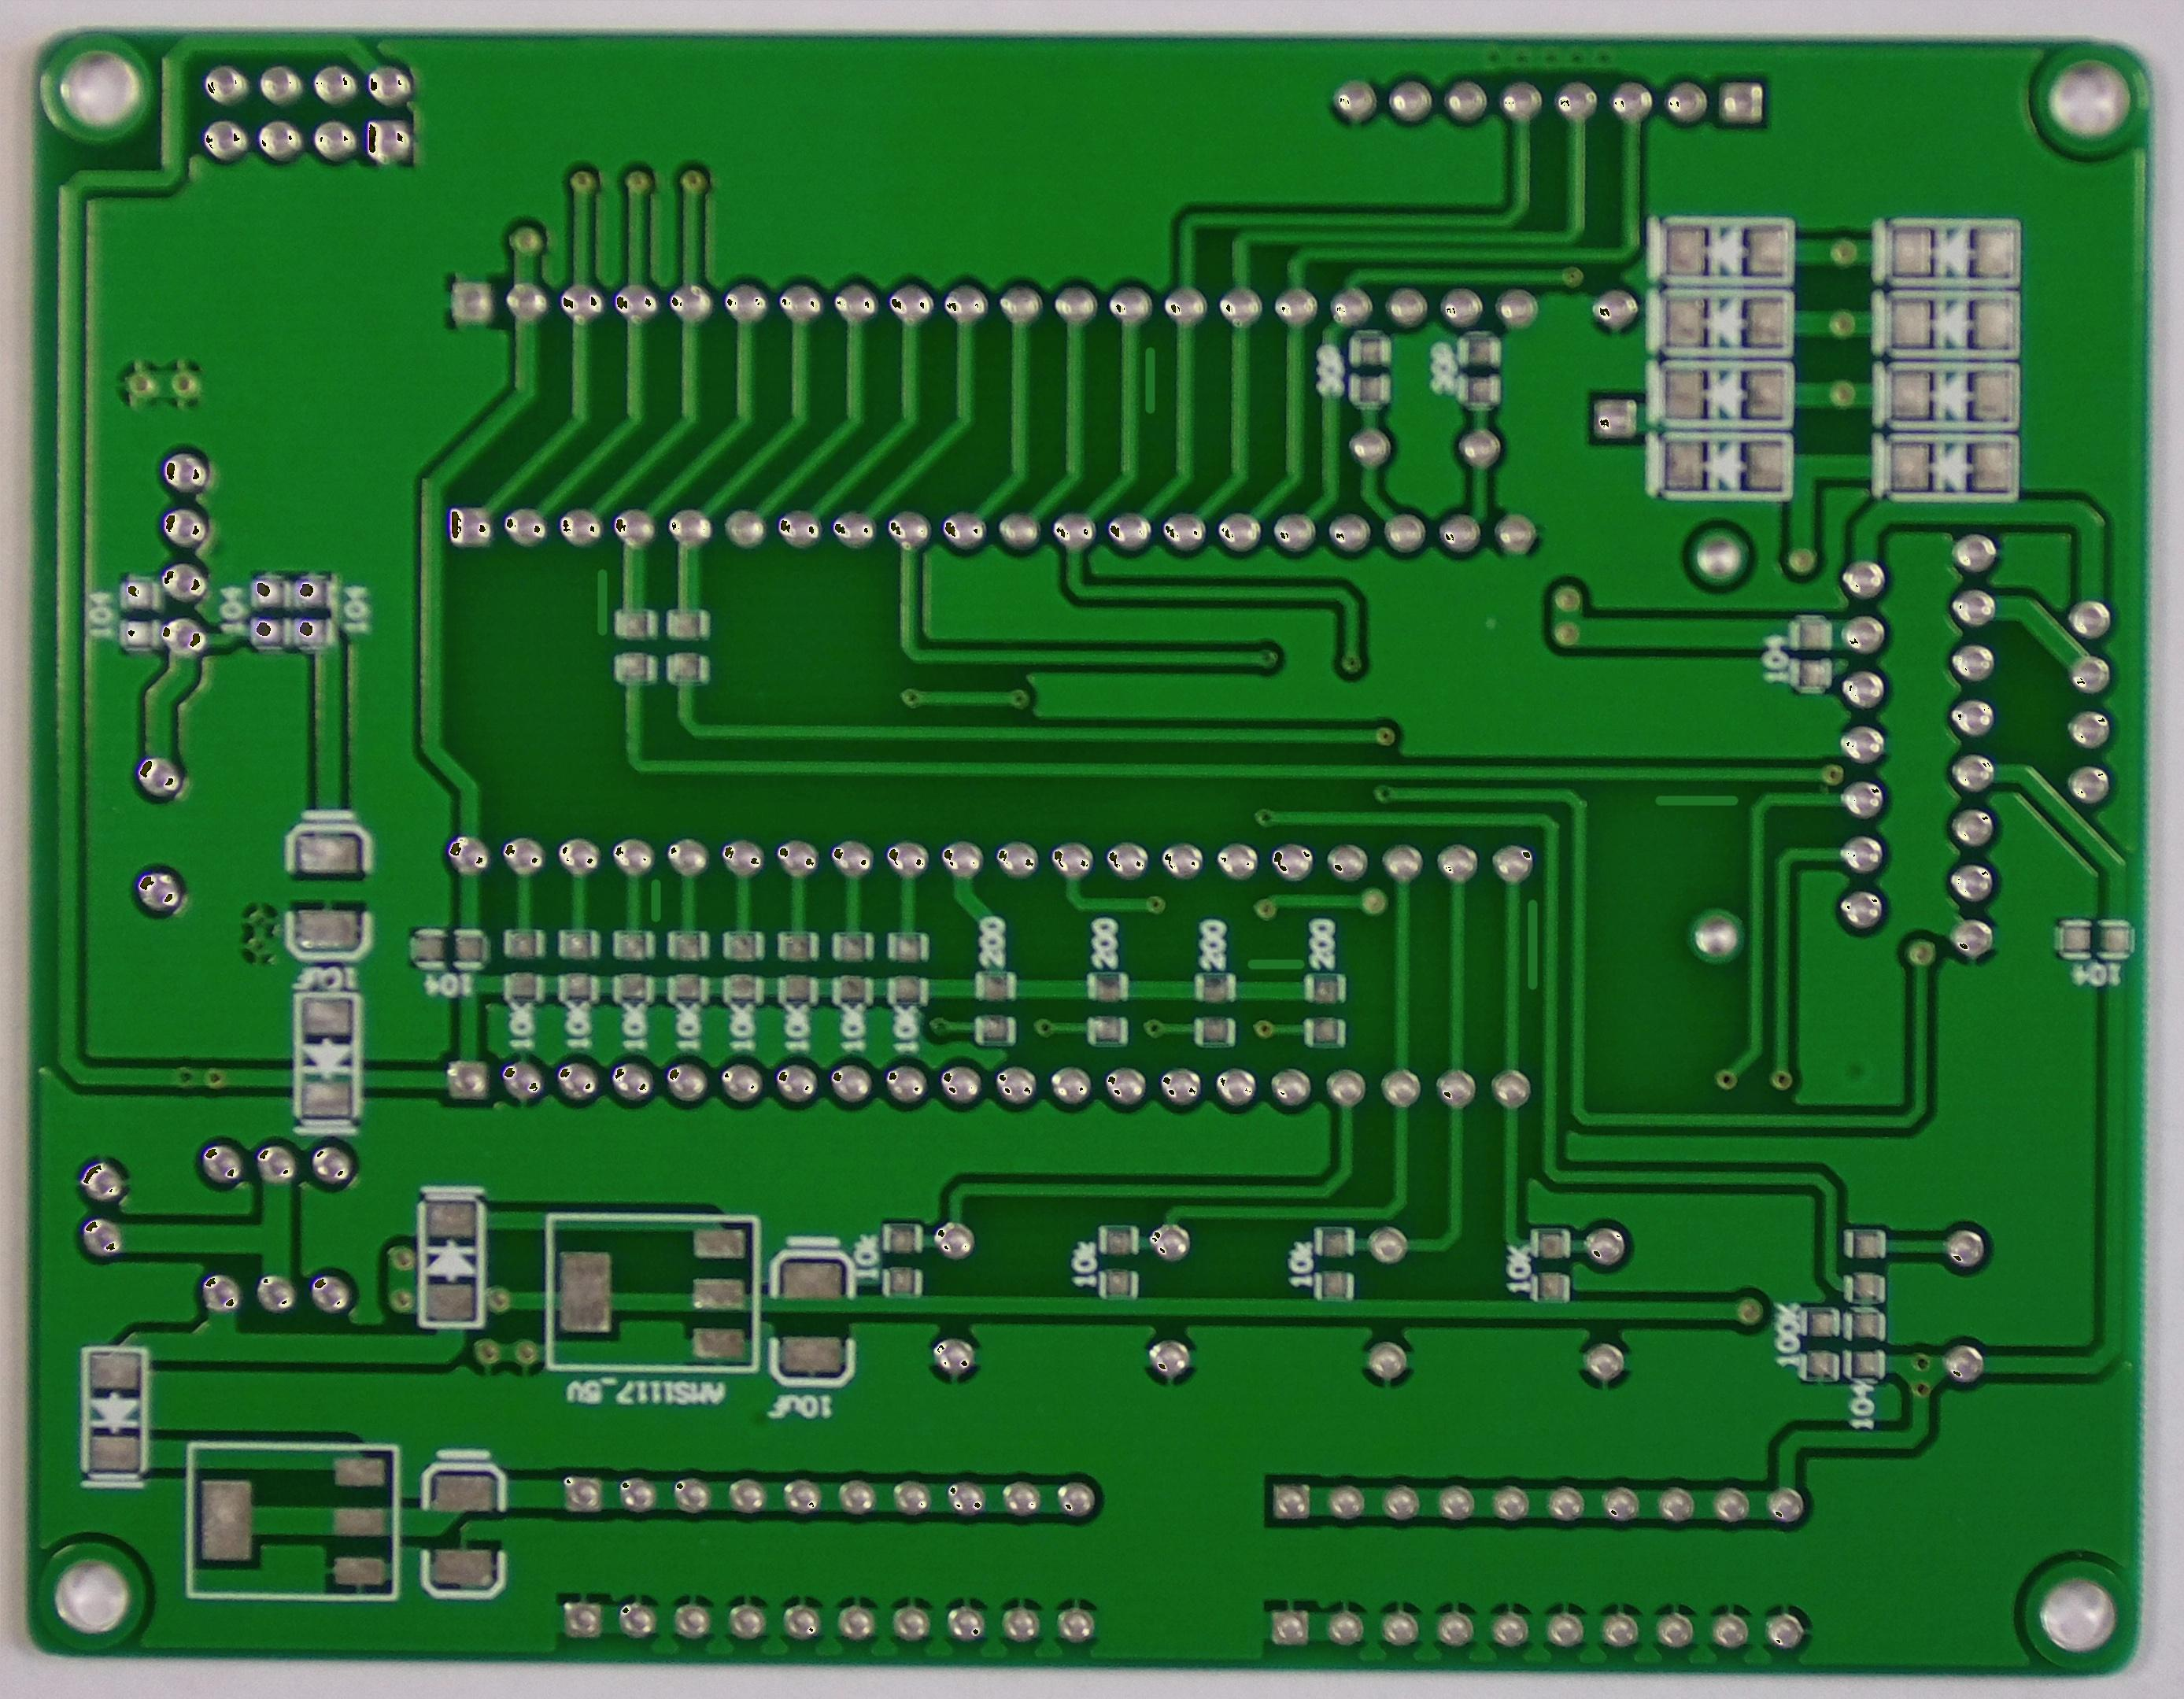spurious_copper: (1512, 888, 1558, 999), (1649, 778, 1751, 824), (1241, 944, 1312, 987), (585, 558, 620, 641), (1129, 340, 1166, 418)
